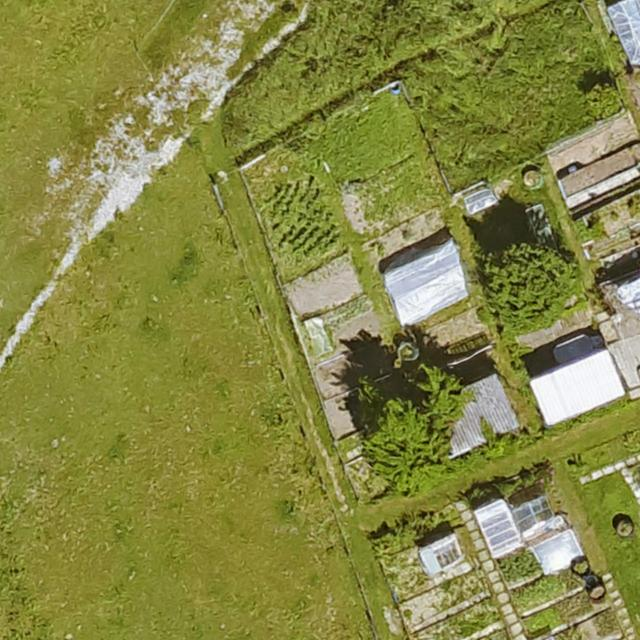tree: (479, 242, 590, 328), (362, 398, 447, 488), (417, 361, 467, 422), (583, 83, 623, 118)
